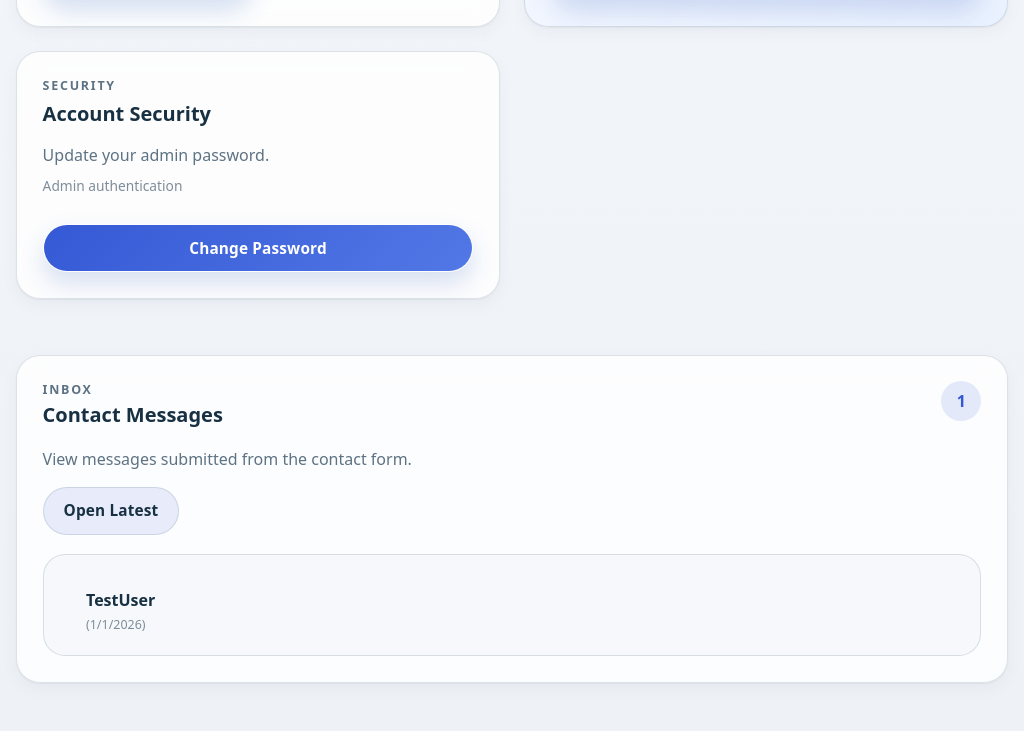
Test: Admin – logged in › shows message detail modal when a message is clicked
(page scrolled)
Click the text "TestUser": (121, 600) [86,589,155,611]
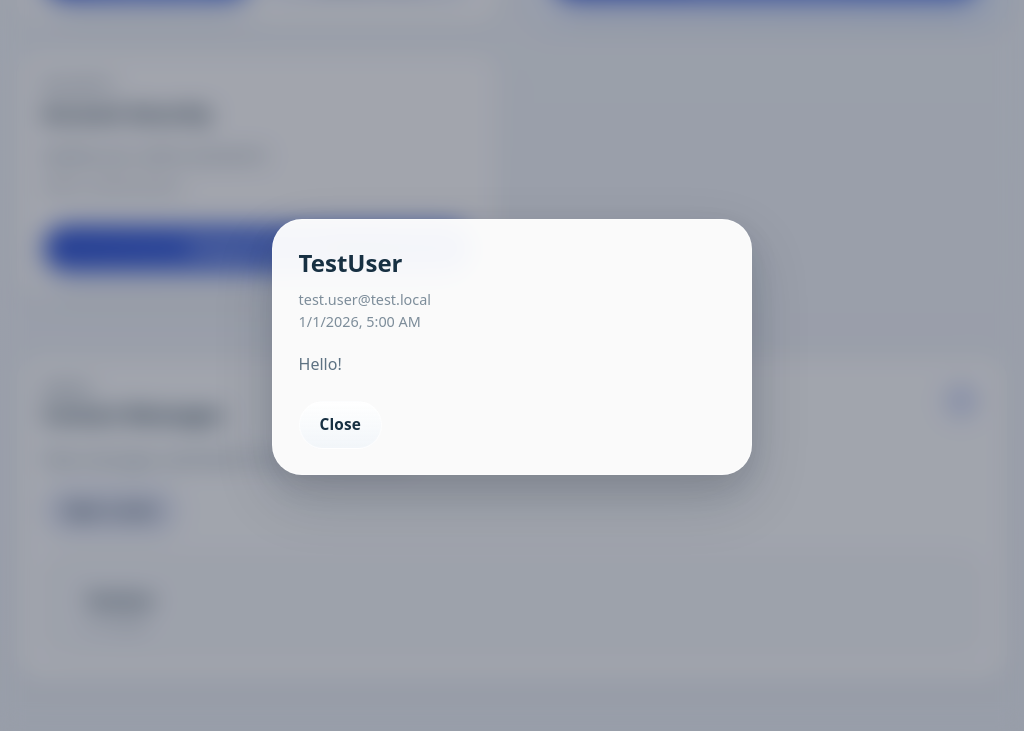
Result: the text "Hello!" is shown at [299,353,342,375]
Click the button "Close": (340, 425) [299,401,382,449]
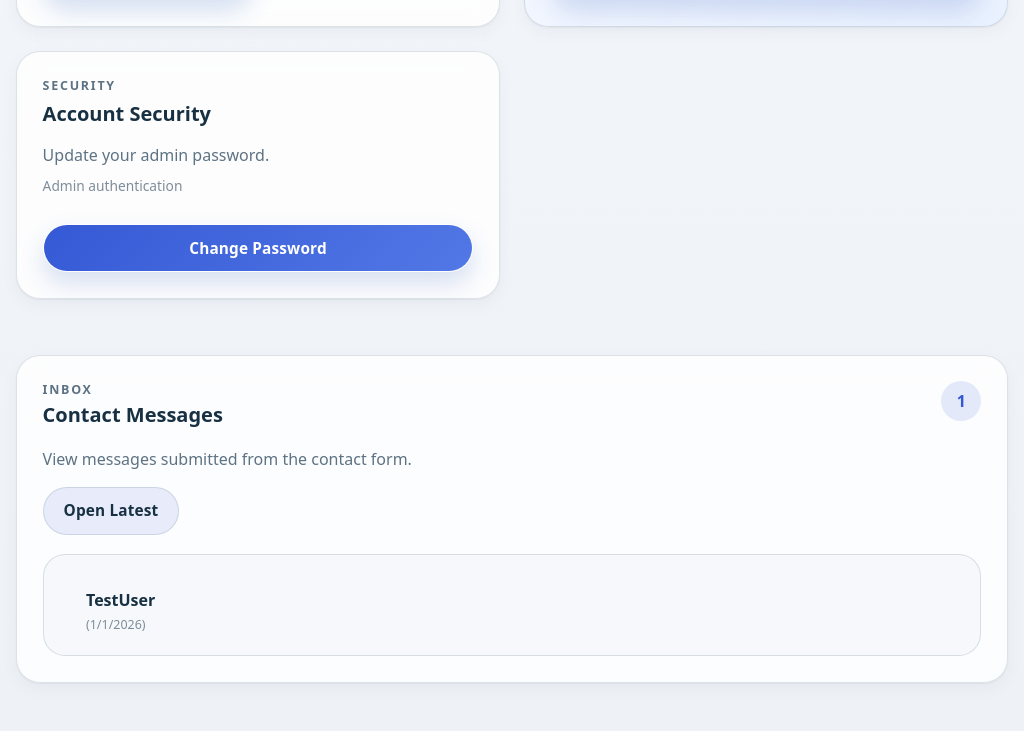
Result: the text "Hello!" is gone
